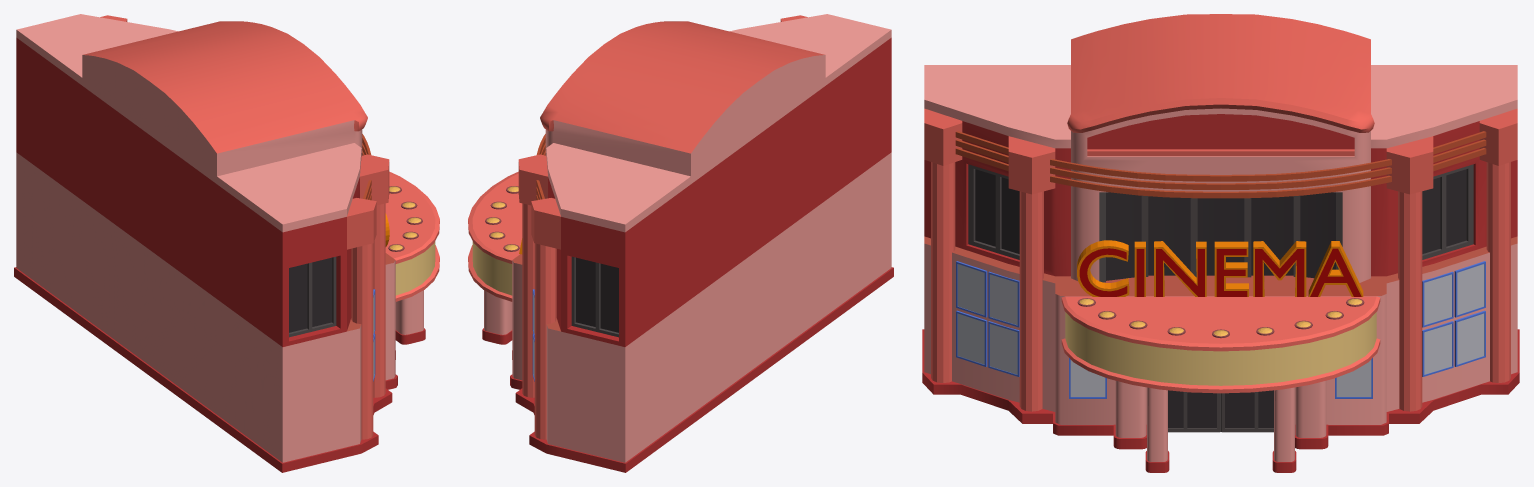
The model's file is SM_Building_Cinema.fbx.
The picture shows the model from 3 angles, left to right: view 1: azimuth 30°, elevation 25°; view 2: azimuth 150°, elevation 25°; view 3: azimuth 270°, elevation 25°; orthographic projection. The views are drawn at different scales.
Visible parts, largest first — view 1: Cinema; view 2: Cinema; view 3: Cinema.
Boxes of the visible parts, left/top/right/bottom form: Cinema: left=14, top=14, right=439, bottom=472; Cinema: left=468, top=14, right=893, bottom=472; Cinema: left=922, top=14, right=1519, bottom=472.
Size of the model in its own units: 532 by 557 by 923.
Materials: 1 (1 with a texture image).
